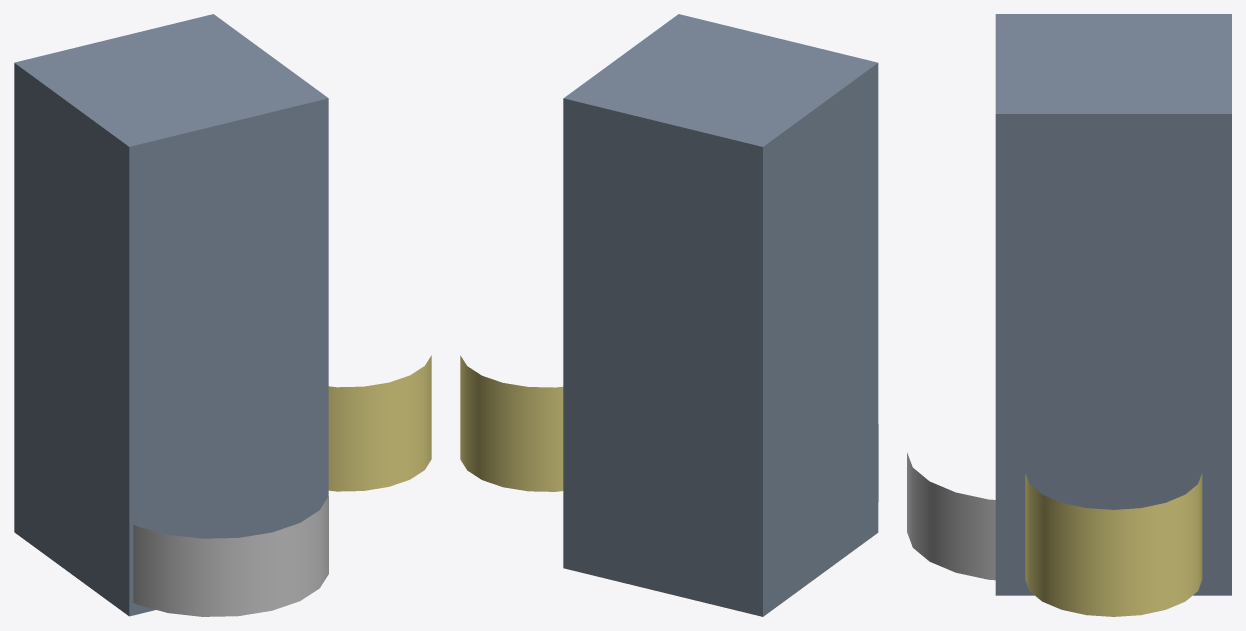
The model's file is vicat_cement_setting_soundness.glb.
3 renders of one model, left to right at view 1: azimuth 30°, elevation 25°; view 2: azimuth 150°, elevation 25°; view 3: azimuth 270°, elevation 25°, orthographic. The views are drawn at different scales.
Parts seen in each view (by area): view 1: VicatApparatusIronFrame, VicatConicalCementPasteMold, SplitLeChatelierMoldCylinder; view 2: VicatApparatusIronFrame, SplitLeChatelierMoldCylinder; view 3: VicatApparatusIronFrame, SplitLeChatelierMoldCylinder, VicatConicalCementPasteMold.
Boxes of the visible parts, x1,y1,x2,y2 form: VicatApparatusIronFrame: (14, 14, 328, 616); VicatConicalCementPasteMold: (133, 496, 328, 616); SplitLeChatelierMoldCylinder: (328, 355, 431, 491); VicatApparatusIronFrame: (563, 14, 878, 616); SplitLeChatelierMoldCylinder: (460, 355, 563, 491); VicatApparatusIronFrame: (995, 14, 1231, 595); SplitLeChatelierMoldCylinder: (1025, 473, 1202, 616); VicatConicalCementPasteMold: (907, 452, 995, 580).
Size of the model in its own units: 0.7 by 0.9 by 0.55.
